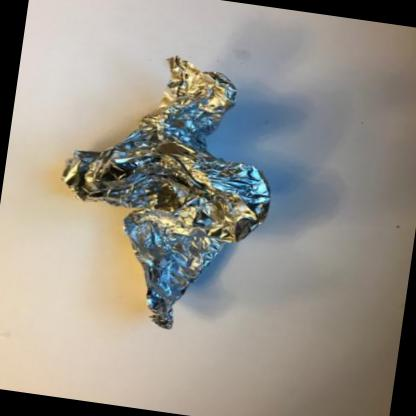Metal: (62, 56, 268, 329)
